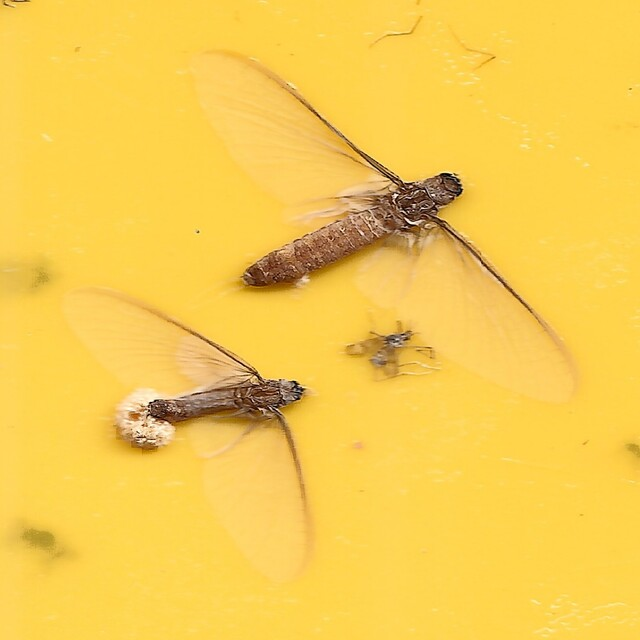Ephemeroptera: (187, 46, 581, 407), (59, 286, 316, 594)
Nematocera: (340, 323, 439, 381)
